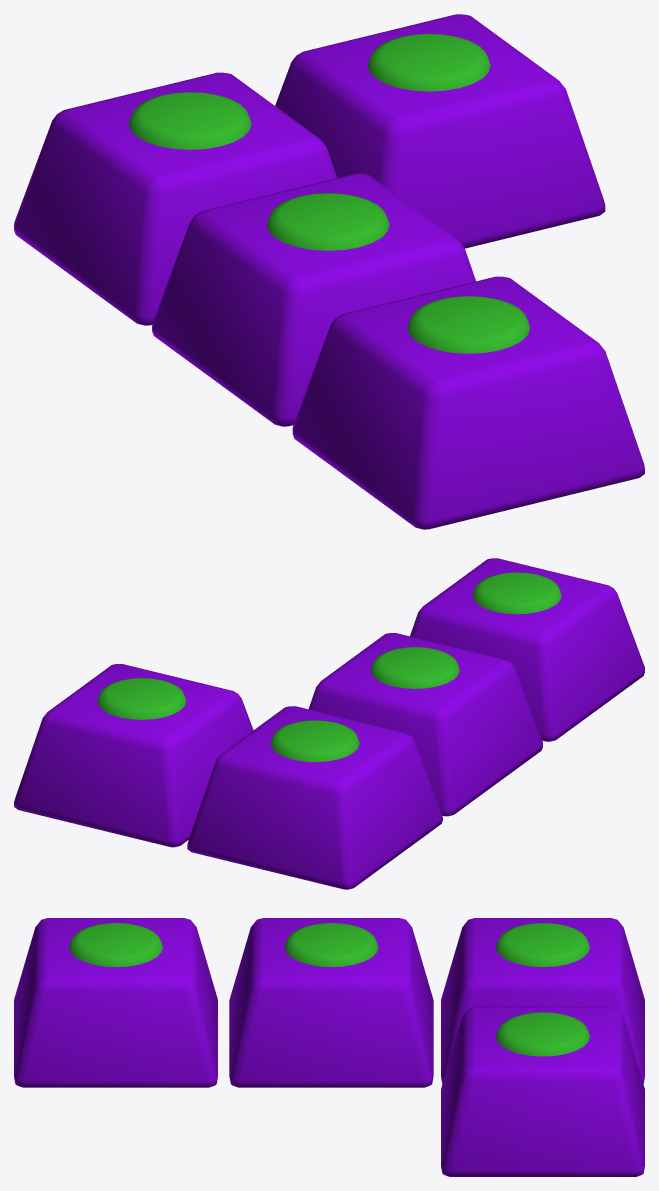
File: J_piece_down_low poly.fbx
The picture shows the model from 3 angles, top to bottom: view 1: azimuth 30°, elevation 25°; view 2: azimuth 150°, elevation 25°; view 3: azimuth 270°, elevation 25°; orthographic projection. The views are drawn at different scales.
Visible parts, largest first — view 1: Cube.054; view 2: Cube.054; view 3: Cube.054.
Boxes of the visible parts, x1,y1,x2,y2 form: Cube.054: (14, 14, 644, 529); Cube.054: (14, 558, 644, 889); Cube.054: (14, 918, 644, 1176).
Bounding box in the file's own units: 41.13 × 7.84 × 27.08.
